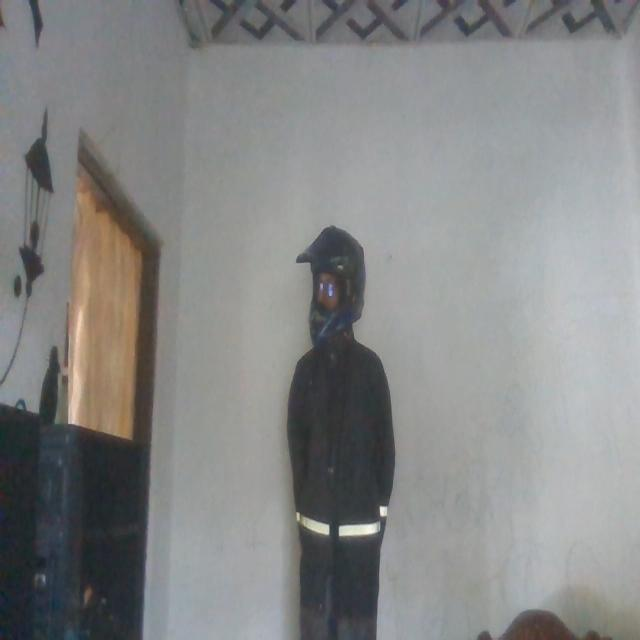Helmet_Wearer: (298, 229, 366, 343)
Jacket_Wearer: (290, 336, 392, 617)
Person: (281, 226, 392, 640)
